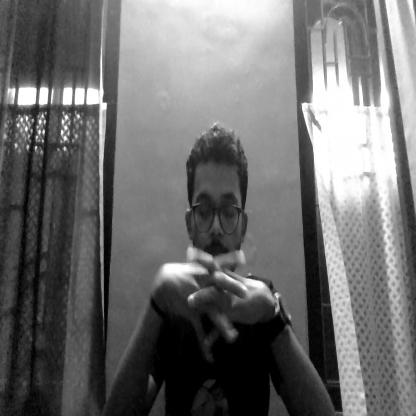Normal: (190, 119, 248, 313)
